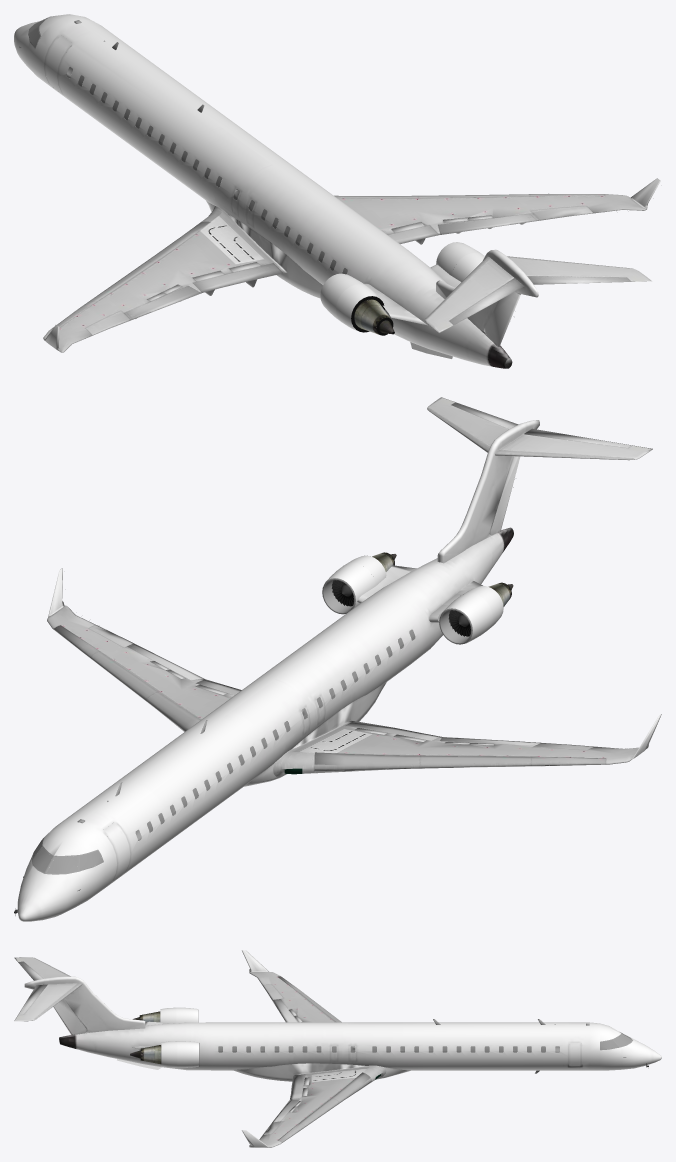
The model's file is crj900.glb.
The picture shows the model from 3 angles, top to bottom: view 1: azimuth 30°, elevation 25°; view 2: azimuth 150°, elevation 25°; view 3: azimuth 270°, elevation 25°; orthographic projection. The views are drawn at different scales.
Visible parts, largest first — view 1: Fuselage_001, CockpitFrame, Reverser_001, CockpitWindows, Nozzle_001; view 2: Fuselage_001, CockpitFrame, Reverser_001, CockpitWindows, Nozzle_001; view 3: Fuselage_001, CockpitFrame, Reverser_001, CockpitWindows, Nozzle_001.
Boxes of the visible parts, box(x1,y1,x2,y2) form: Fuselage_001: box(14, 14, 512, 368); CockpitFrame: box(28, 17, 660, 352); Reverser_001: box(320, 242, 484, 330); CockpitWindows: box(29, 18, 347, 274); Nozzle_001: box(354, 299, 394, 334); Fuselage_001: box(17, 527, 513, 921); CockpitFrame: box(32, 397, 661, 920); Reverser_001: box(325, 555, 503, 643); CockpitWindows: box(32, 629, 415, 873); Nozzle_001: box(322, 552, 513, 644); Fuselage_001: box(59, 1022, 661, 1070); CockpitFrame: box(14, 950, 652, 1147); Reverser_001: box(160, 1007, 198, 1067); CockpitWindows: box(218, 1032, 631, 1079); Nozzle_001: box(130, 1010, 199, 1066).
Size of the model in its own units: 23.91 by 6.09 by 36.36.
Materials: 6 (6 with a texture image).
